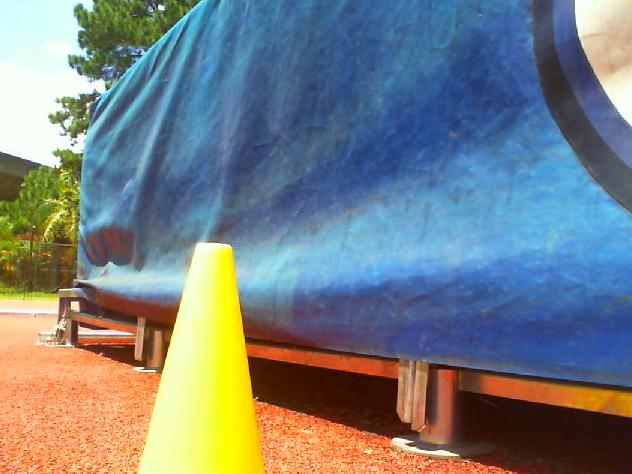0 cone: (135, 243, 267, 474)
